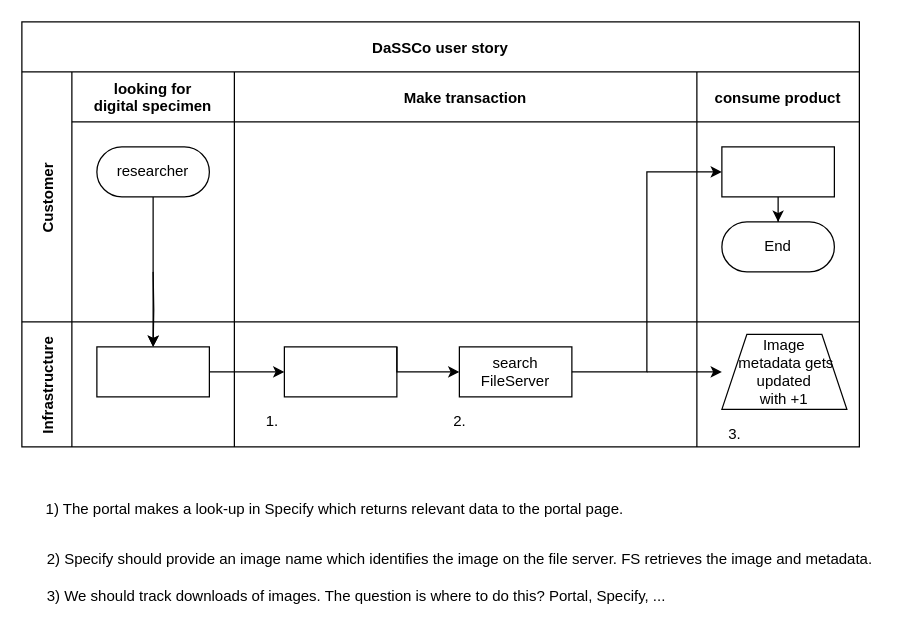
This 906x631 diagram has some shape labels left out. Here are the shapes that lost their labels. From the top down, the centre of each, then its label:
At (x=777, y=171): "receive image + metadata".
At (x=152, y=371): "Portal search".
At (x=340, y=371): "Lookup in Specify".
